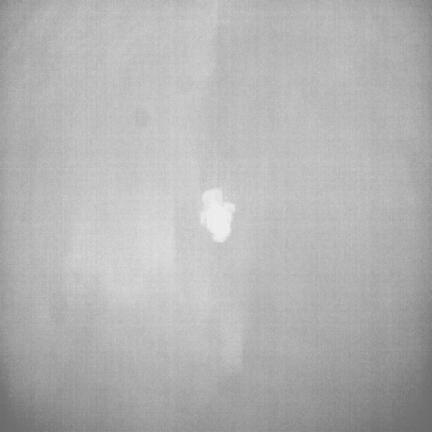flukeprints: (200, 188, 235, 242)
